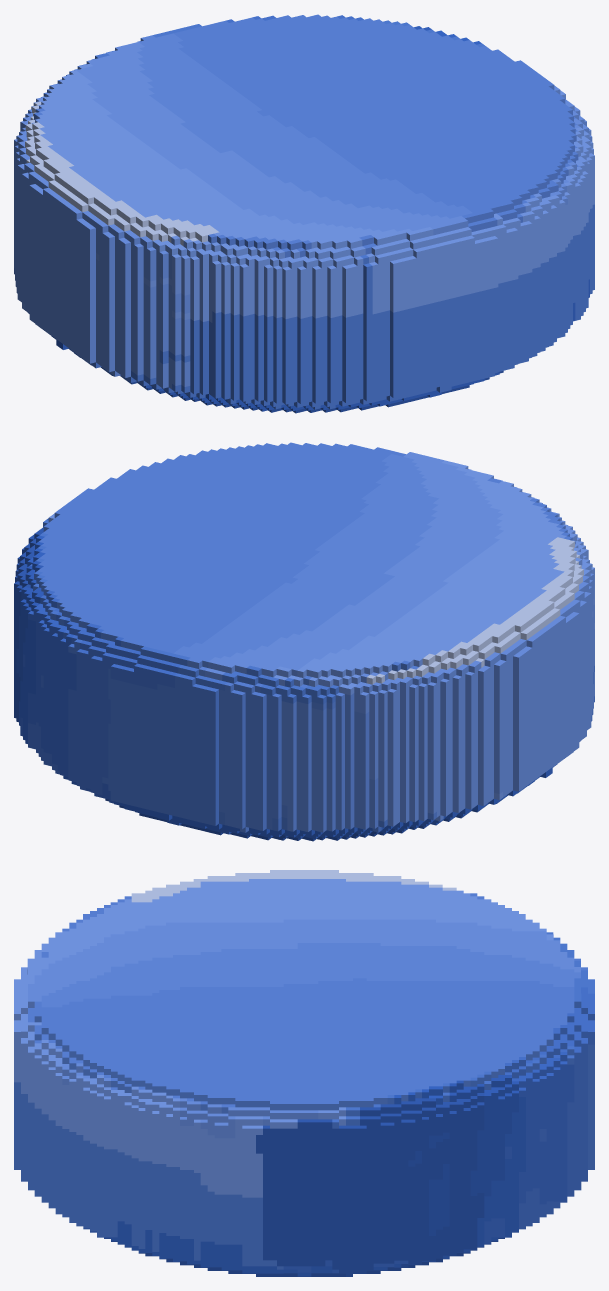
The model's file is spring_head.FBX.
3 renders of one model, top to bottom at view 1: azimuth 30°, elevation 25°; view 2: azimuth 150°, elevation 25°; view 3: azimuth 270°, elevation 25°, orthographic. The views are drawn at different scales.
Visible parts, largest first — view 1: default009; view 2: default009; view 3: default009.
Part boxes in pixels (x1,y1,x2,y2): default009: [14, 14, 594, 413]; default009: [14, 442, 594, 841]; default009: [14, 870, 594, 1276].
Size of the model in its own units: 1485 by 513 by 1485.
